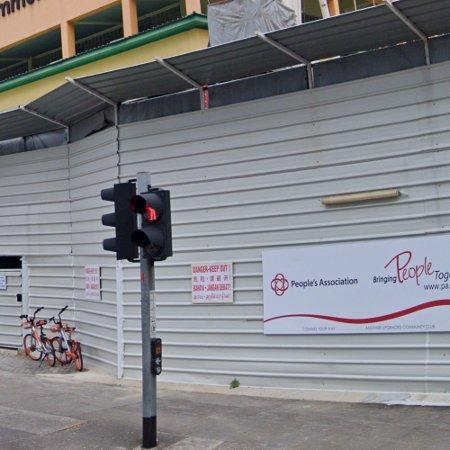traffic lights: (101, 181, 140, 261), (135, 186, 171, 263)
